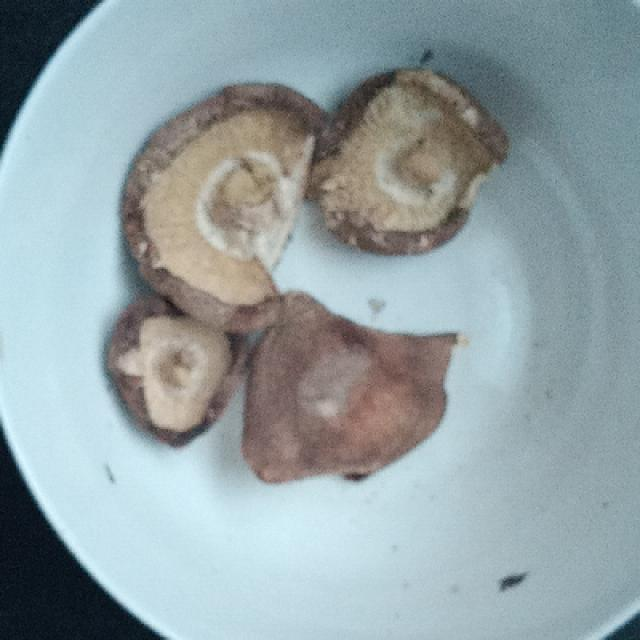Lentinus edodes: (124, 83, 338, 330), (234, 291, 459, 482), (313, 66, 508, 254), (101, 300, 245, 445)
